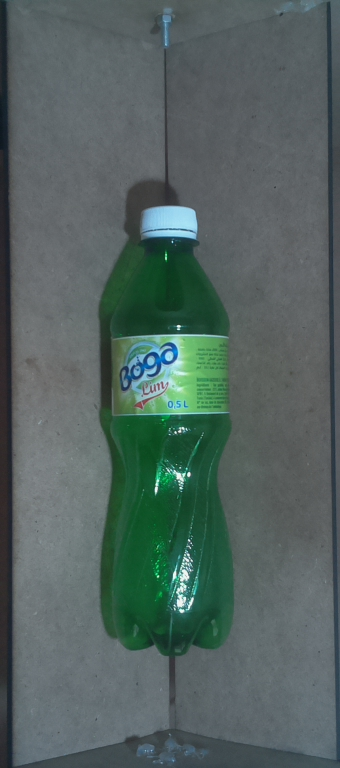Bouteille_0.5L: (97, 196, 248, 661)
